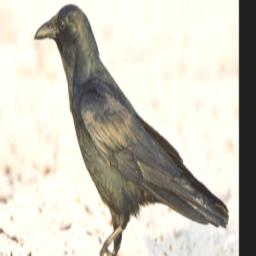Crow: (32, 1, 231, 256)
